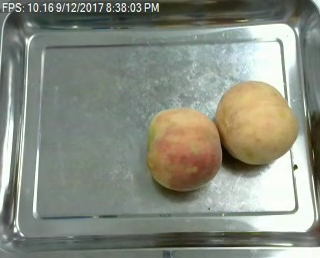Peach: (216, 80, 297, 165), (145, 107, 222, 191)
